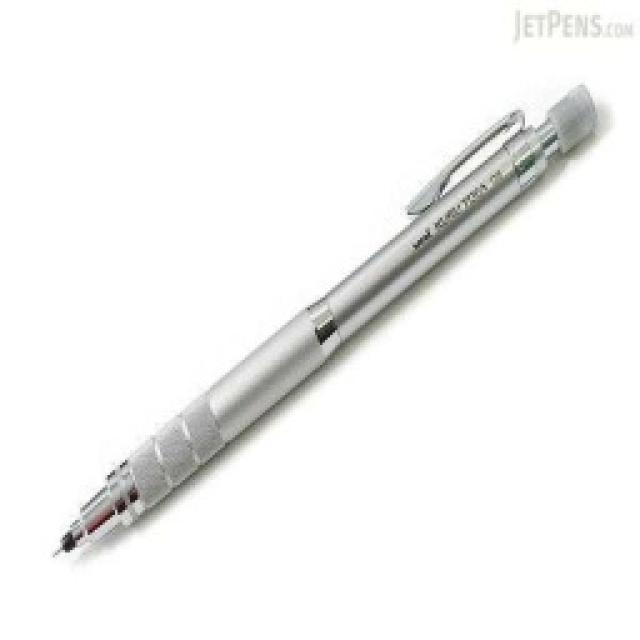pencil: (48, 78, 600, 560)
